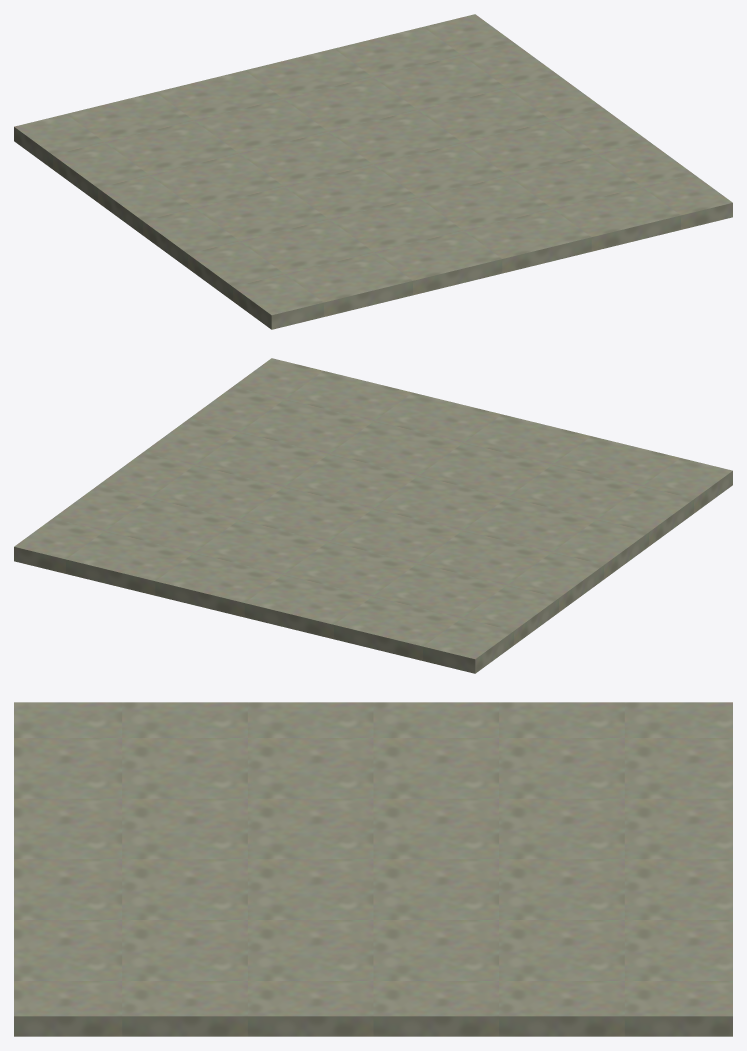
The model's file is SM_HH_V2_Foundation.fbx.
The picture shows the model from 3 angles, top to bottom: view 1: azimuth 30°, elevation 25°; view 2: azimuth 150°, elevation 25°; view 3: azimuth 270°, elevation 25°; orthographic projection. The views are drawn at different scales.
Visible parts, largest first — view 1: HH_V2_Foundation; view 2: HH_V2_Foundation; view 3: HH_V2_Foundation.
Part boxes in pixels (x1,y1,x2,y2): HH_V2_Foundation: (14,14,732,329); HH_V2_Foundation: (14,358,732,673); HH_V2_Foundation: (14,702,732,1036).
Bounding box in the file's own units: 9 × 9.3 × 0.28.
